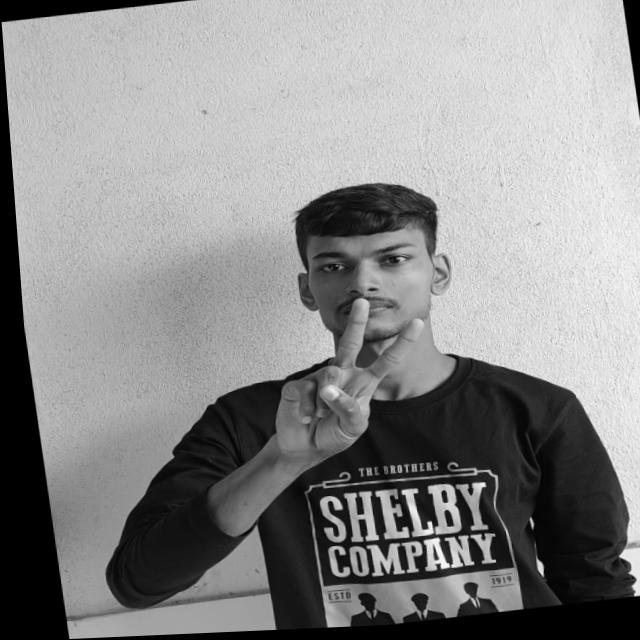Victory: (253, 293, 442, 460)
